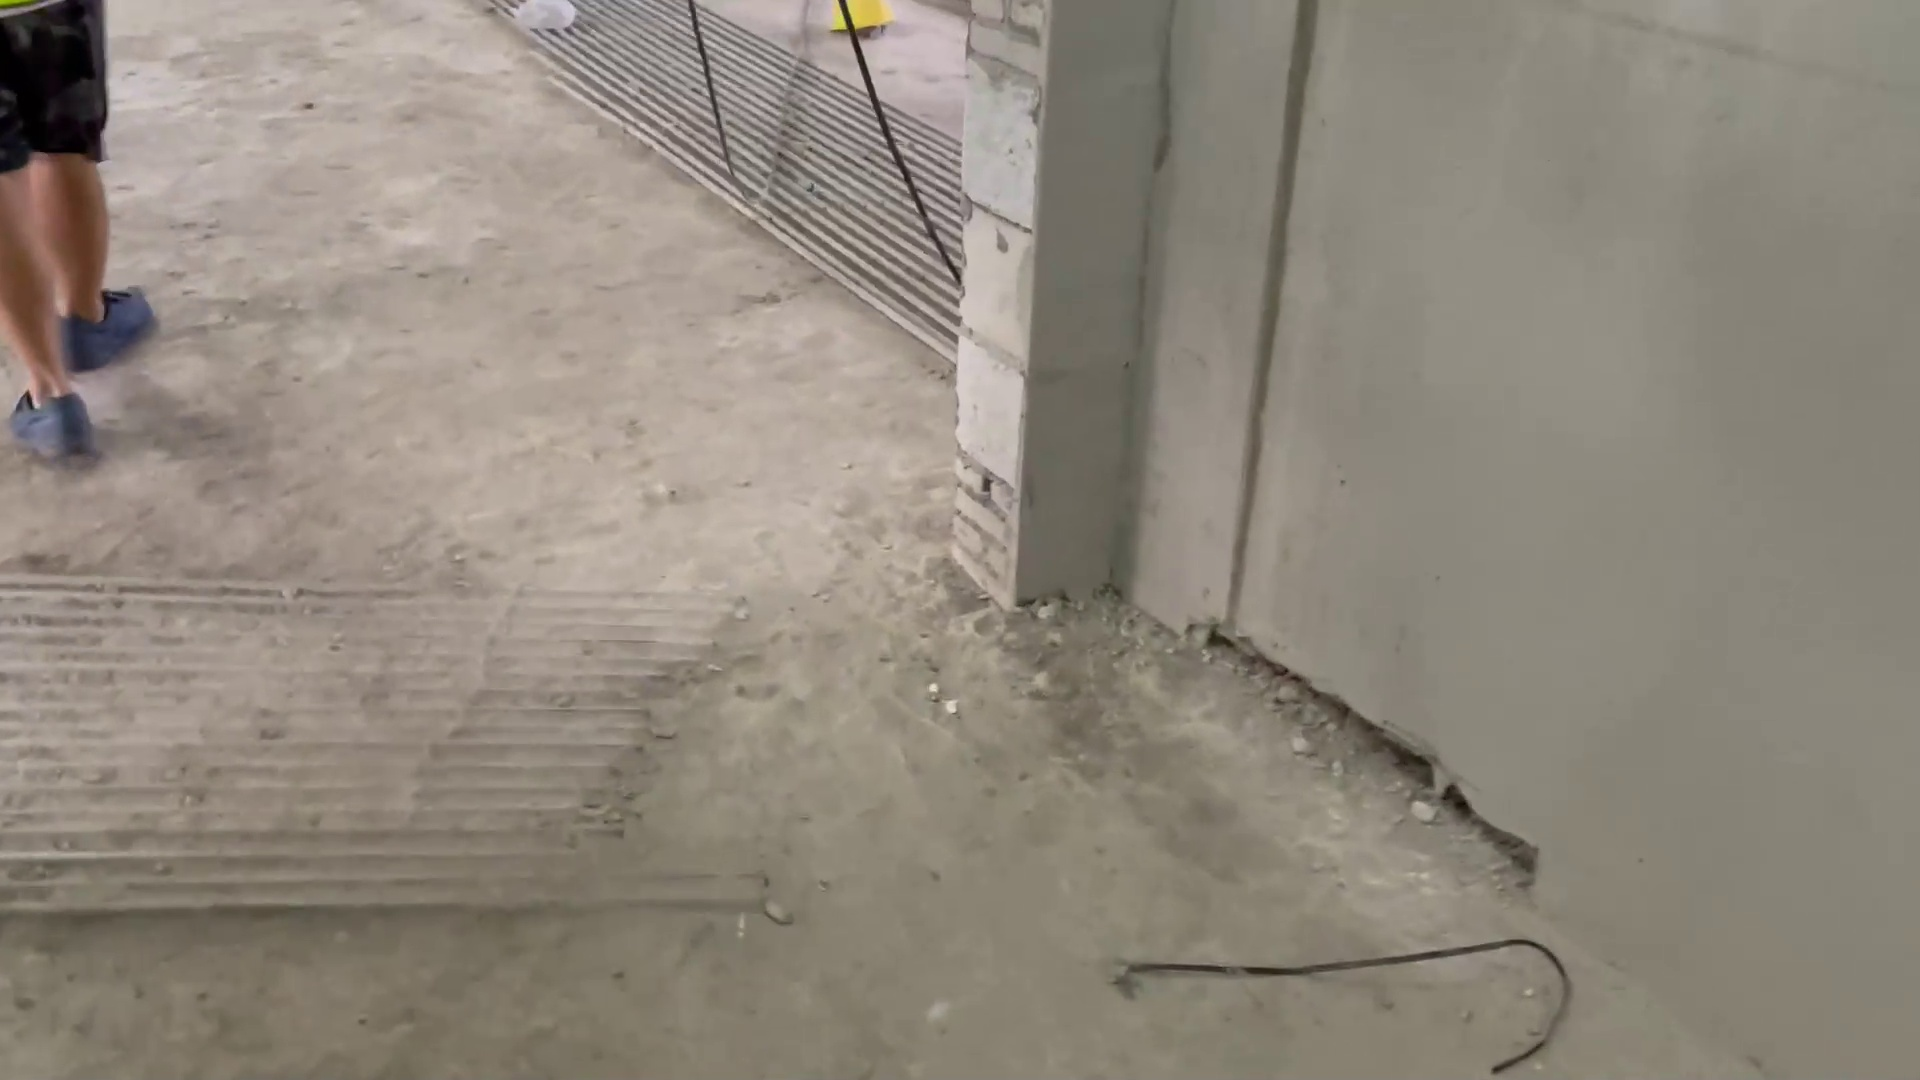helmet: (818, 1, 899, 47)
person: (1, 8, 211, 464)
